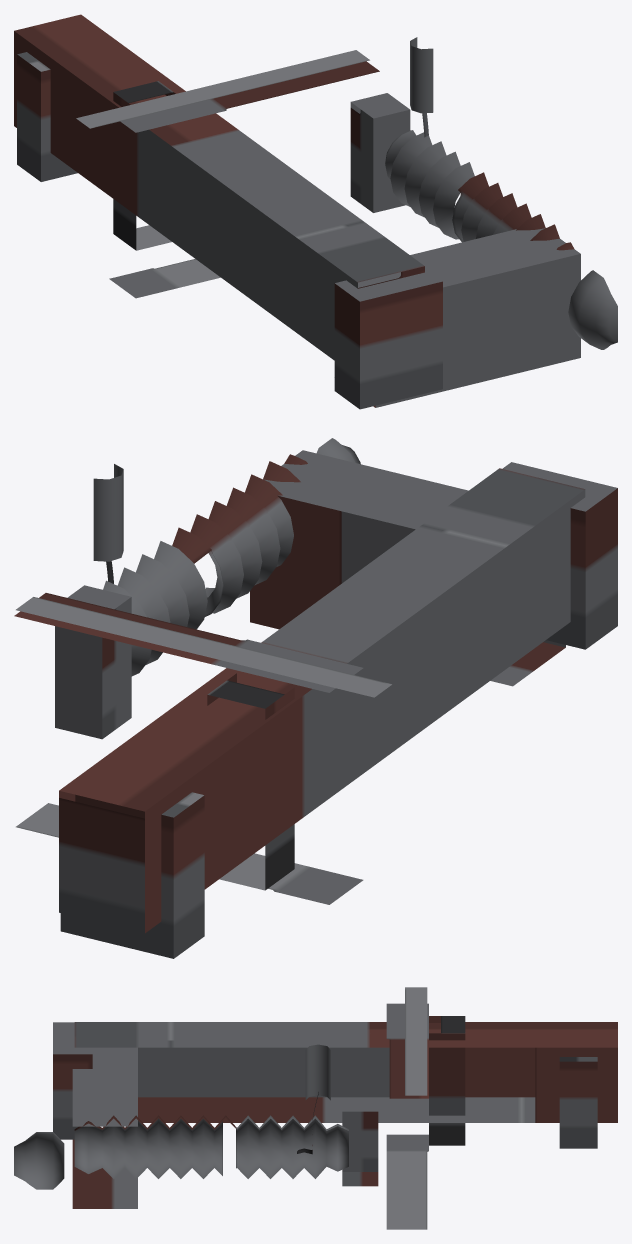
Rendered from section-0.obj.
3 views of the same model, one above another, from view 1: azimuth 30°, elevation 25°; view 2: azimuth 150°, elevation 25°; view 3: azimuth 270°, elevation 25° (orthographic). The views are drawn at different scales.
Bounding box in the file's own units: 0.9132 × 0.71 × 2.16.
